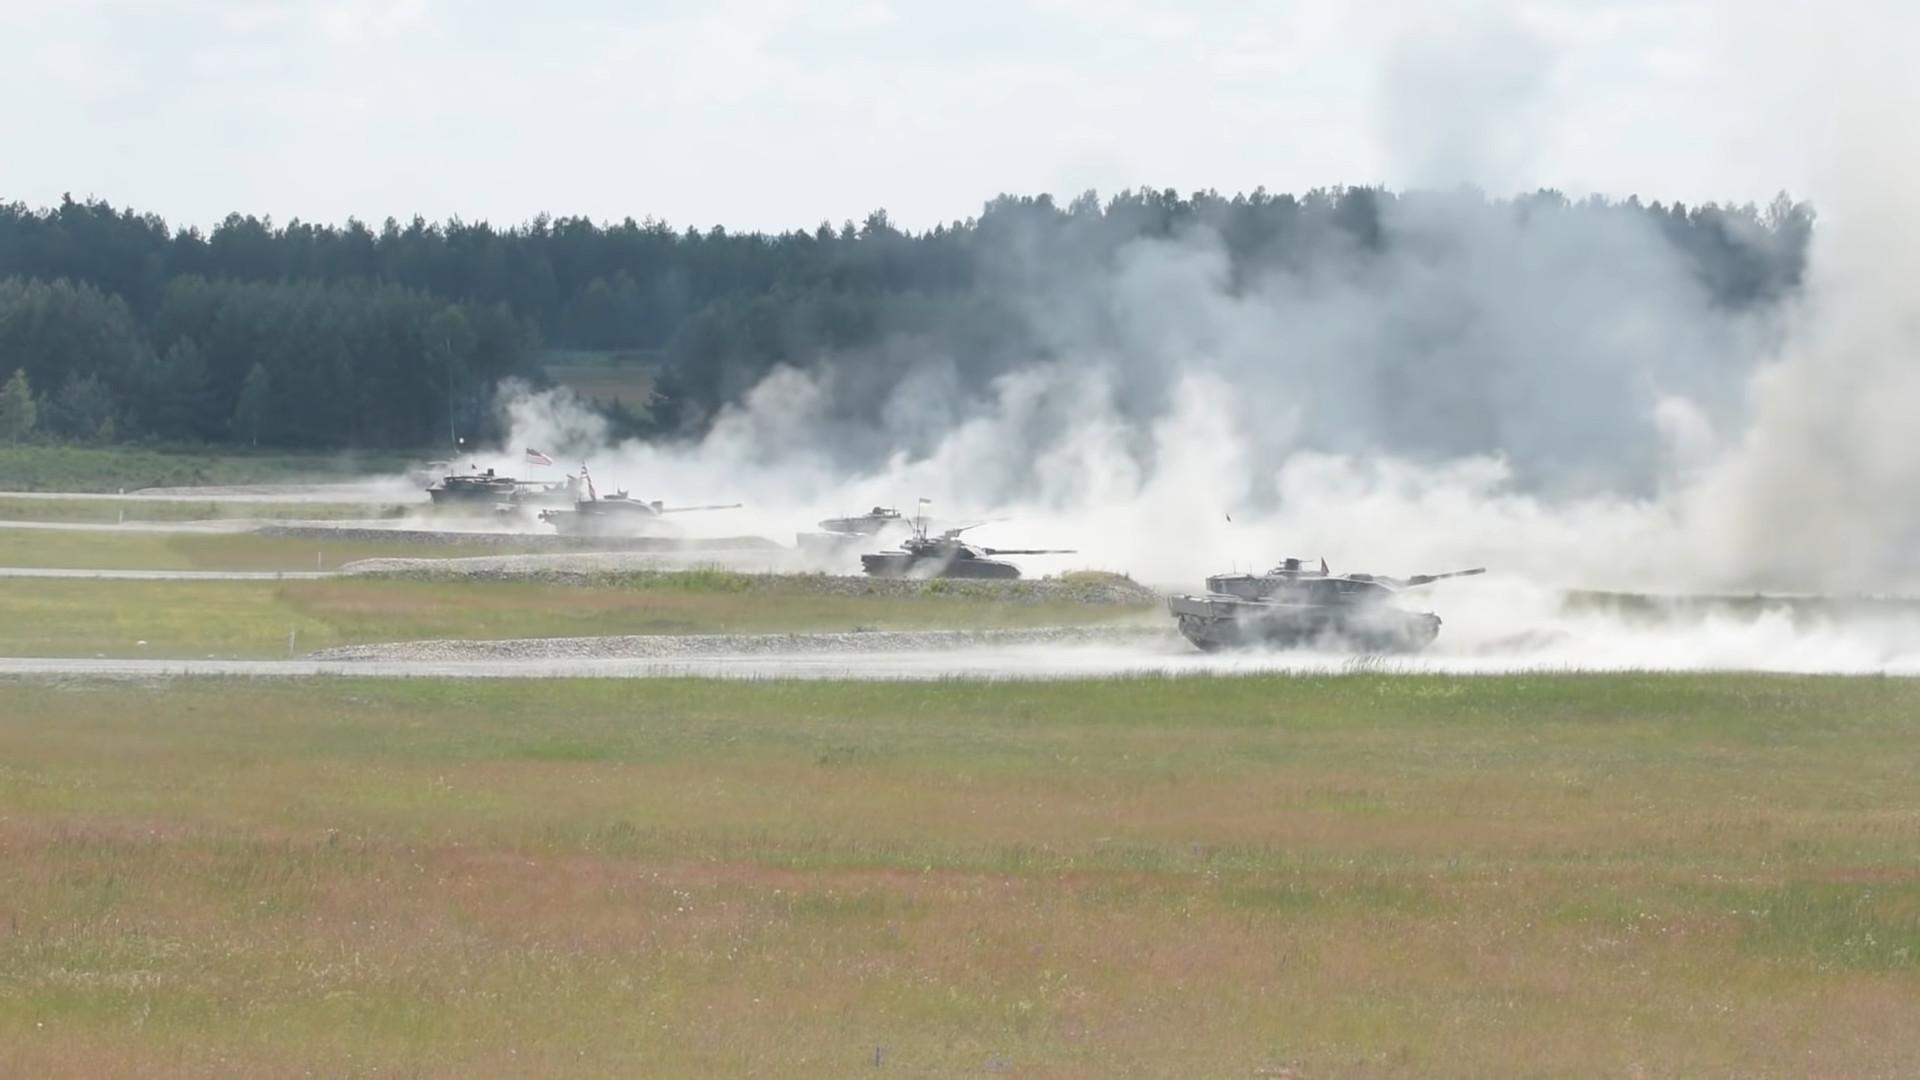tank: (1168, 558, 1485, 655), (538, 488, 744, 535), (858, 537, 1077, 578)
